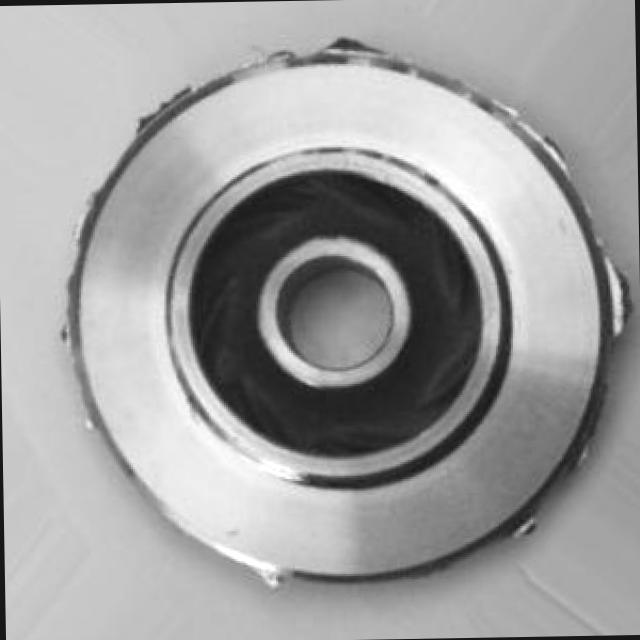Defect: (598, 257, 637, 312)
